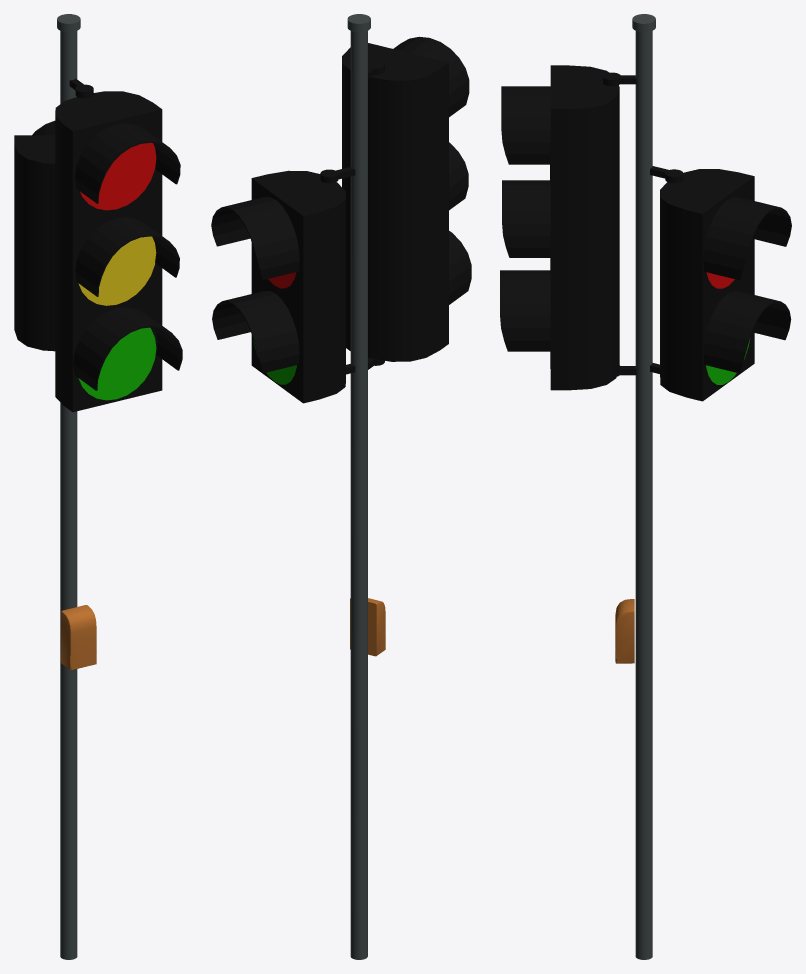
The model's file is Traffic light.FBX.
The picture shows the model from 3 angles, left to right: view 1: azimuth 30°, elevation 25°; view 2: azimuth 150°, elevation 25°; view 3: azimuth 270°, elevation 25°; orthographic projection.
Visible parts, largest first — view 1: Box001, Cone001, Box005, Cone004, Cone002, Cone003, Object001, Object, Object002, Box004; view 2: Box001, Cone001, Box005, Cone005, Cone006, Cone002, Cone004, Box004, Cone003; view 3: Box001, Cone001, Box005, Cone005, Cone006, Cone004, Cone002, Cone003, Box004.
Boxes of the visible parts, x1,y1,x2,y2 form: Box001: (55, 79, 162, 412); Cone001: (57, 14, 80, 959); Box005: (14, 135, 55, 351); Cone004: (73, 307, 182, 397); Cone002: (75, 123, 180, 212); Cone003: (75, 217, 179, 298); Object001: (78, 327, 156, 400); Object: (78, 236, 156, 305); Object002: (80, 142, 156, 210); Box004: (61, 605, 96, 670); Box001: (342, 43, 448, 369); Cone001: (347, 14, 370, 959); Box005: (251, 167, 355, 403); Cone005: (211, 197, 299, 289); Cone006: (212, 291, 299, 379); Cone002: (393, 36, 469, 117); Cone004: (449, 231, 471, 304); Box004: (350, 598, 385, 656); Cone003: (449, 142, 468, 210); Box001: (550, 65, 636, 390); Cone001: (632, 14, 655, 959); Box005: (650, 166, 754, 401); Cone005: (703, 197, 791, 289); Cone006: (703, 291, 791, 379); Cone004: (500, 270, 550, 368); Cone002: (501, 86, 550, 181); Cone003: (502, 180, 550, 274); Box004: (615, 599, 634, 663).
Size of the model in its own units: 93.98 by 600 by 169.
